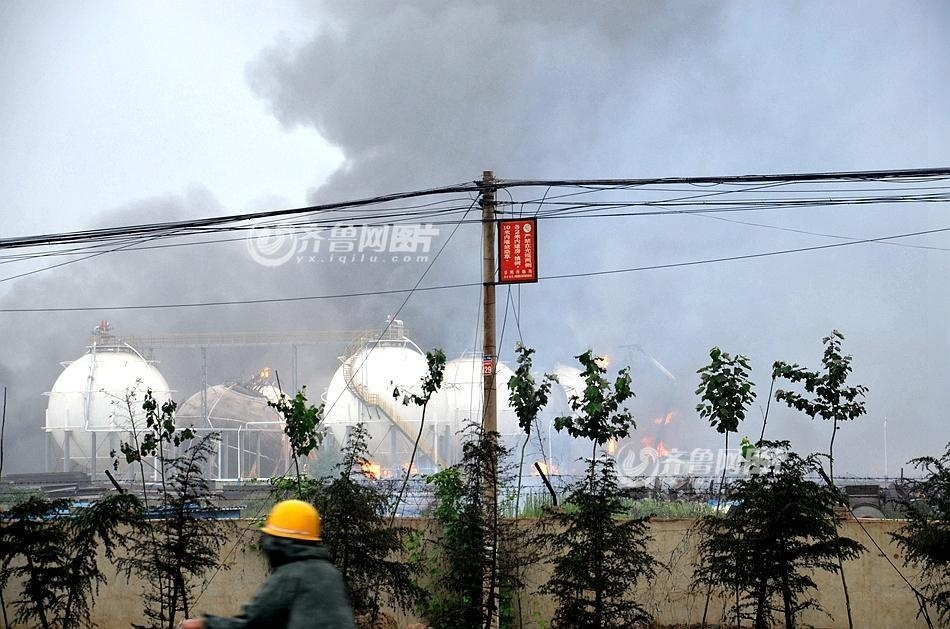fire: (356, 455, 387, 478), (641, 438, 672, 458), (533, 455, 559, 476), (651, 408, 675, 424), (602, 437, 617, 456), (593, 352, 609, 369), (483, 359, 498, 377)
